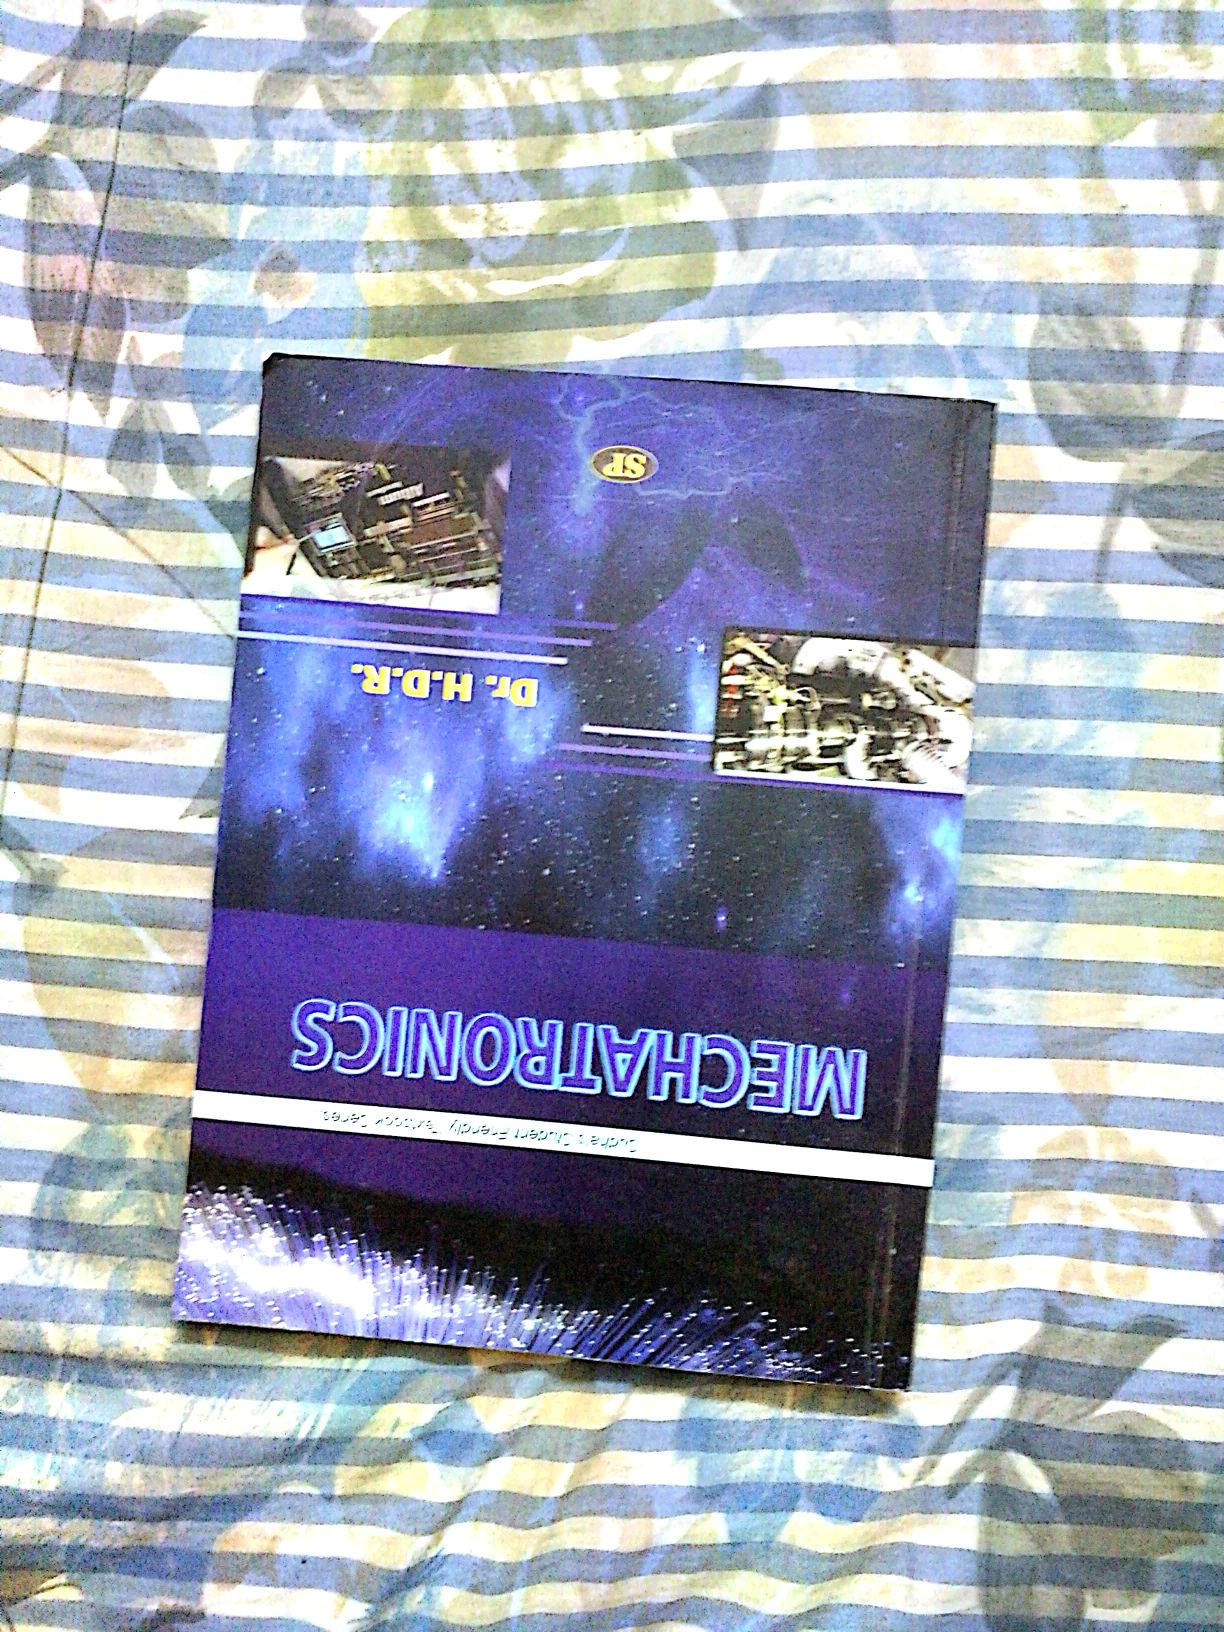mechatronics: (172, 334, 959, 1429)
